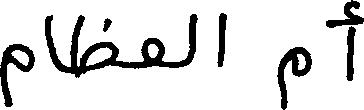X: (72, 10, 116, 82), (331, 0, 363, 85), (0, 39, 32, 109), (279, 42, 310, 109), (143, 33, 163, 72), (47, 10, 57, 73), (219, 8, 226, 71), (189, 9, 193, 68)
